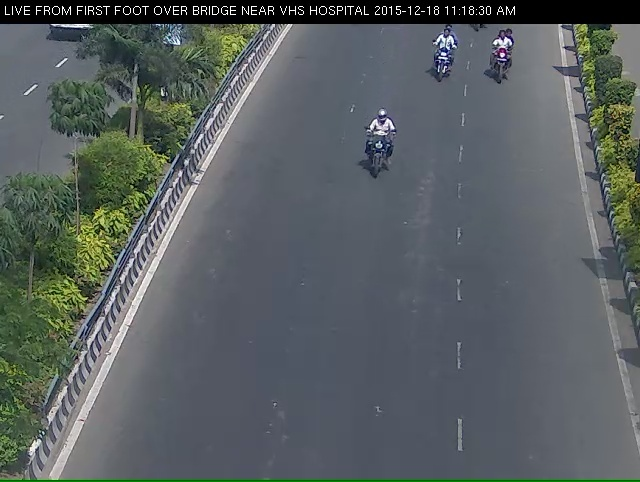Person: (358, 118, 391, 194), (489, 28, 516, 93), (430, 27, 457, 91)
